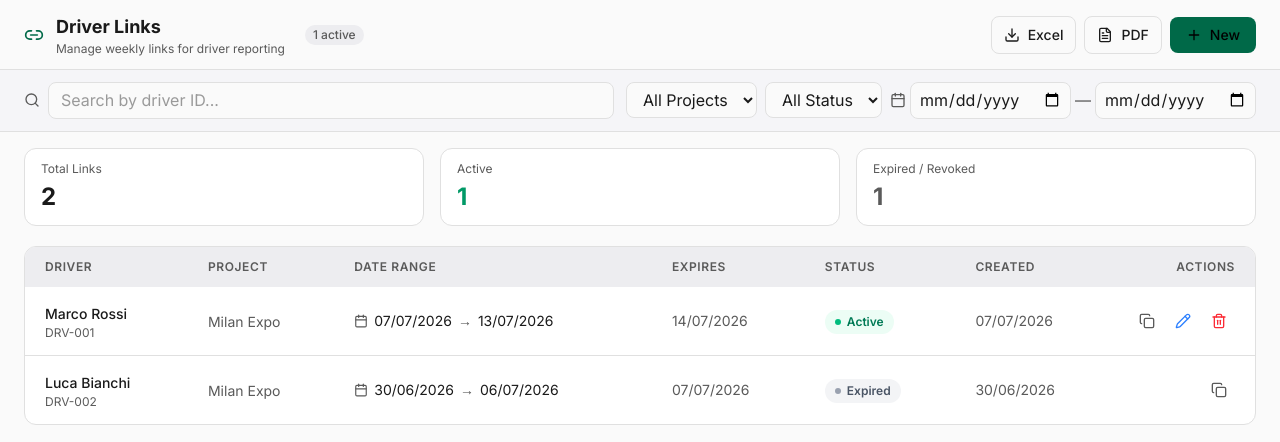
DriverLinksScreen › filters by search query
Expected: the text "DRV-001" is shown, top-left (45, 325), bottom-right (94, 340)
Type "DRV-001" into the field with placeholder "Search by driver ID..." at (331, 100), box top-left (48, 82), bottom-right (614, 119)
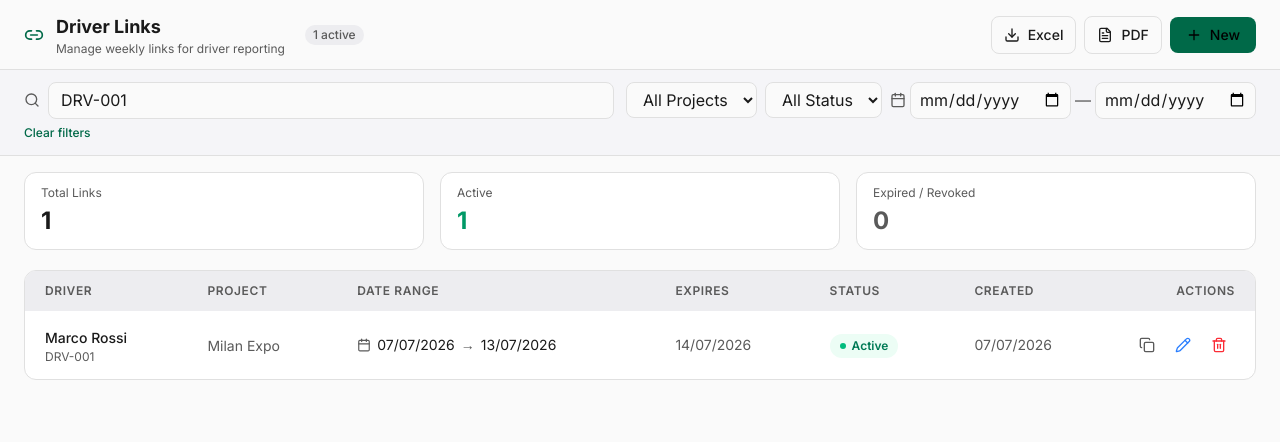
Expected: the text "DRV-001" is shown, top-left (45, 349), bottom-right (94, 364)
Expected: the text "DRV-002" is gone
